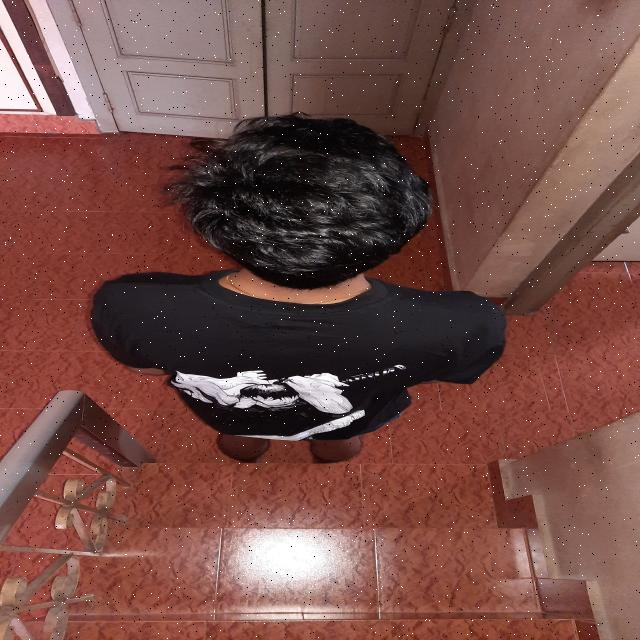humans: (77, 109, 514, 466)
